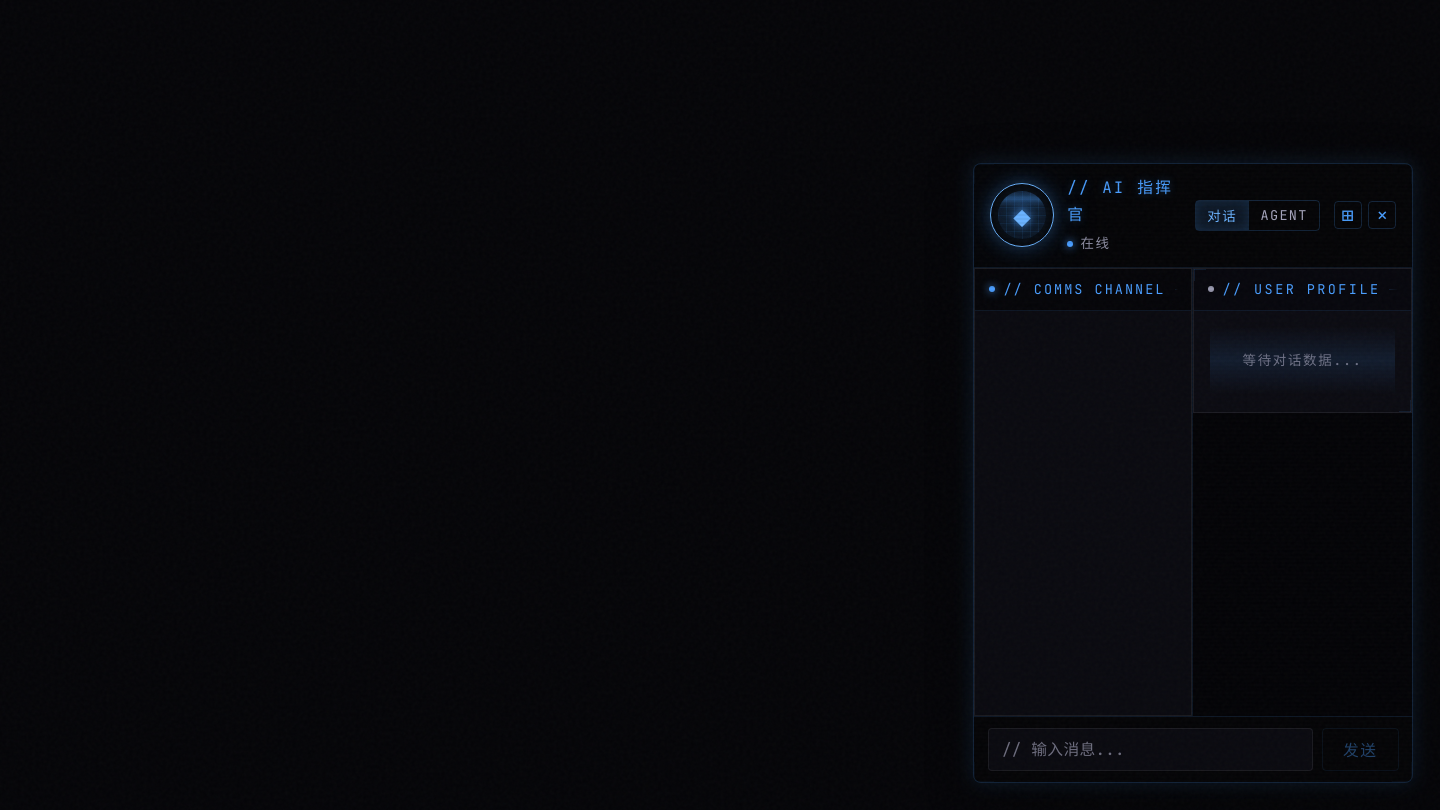
Scenario: RecruiterTerminal 组件 › Agent 模式（MCP 工具调用） › 切换到 AGENT：标题变化、画像面板与快捷建议隐藏
Click the tab with class "mode-switch__btn" showing "AGENT" at (1284, 215), box [1248, 201, 1319, 230]
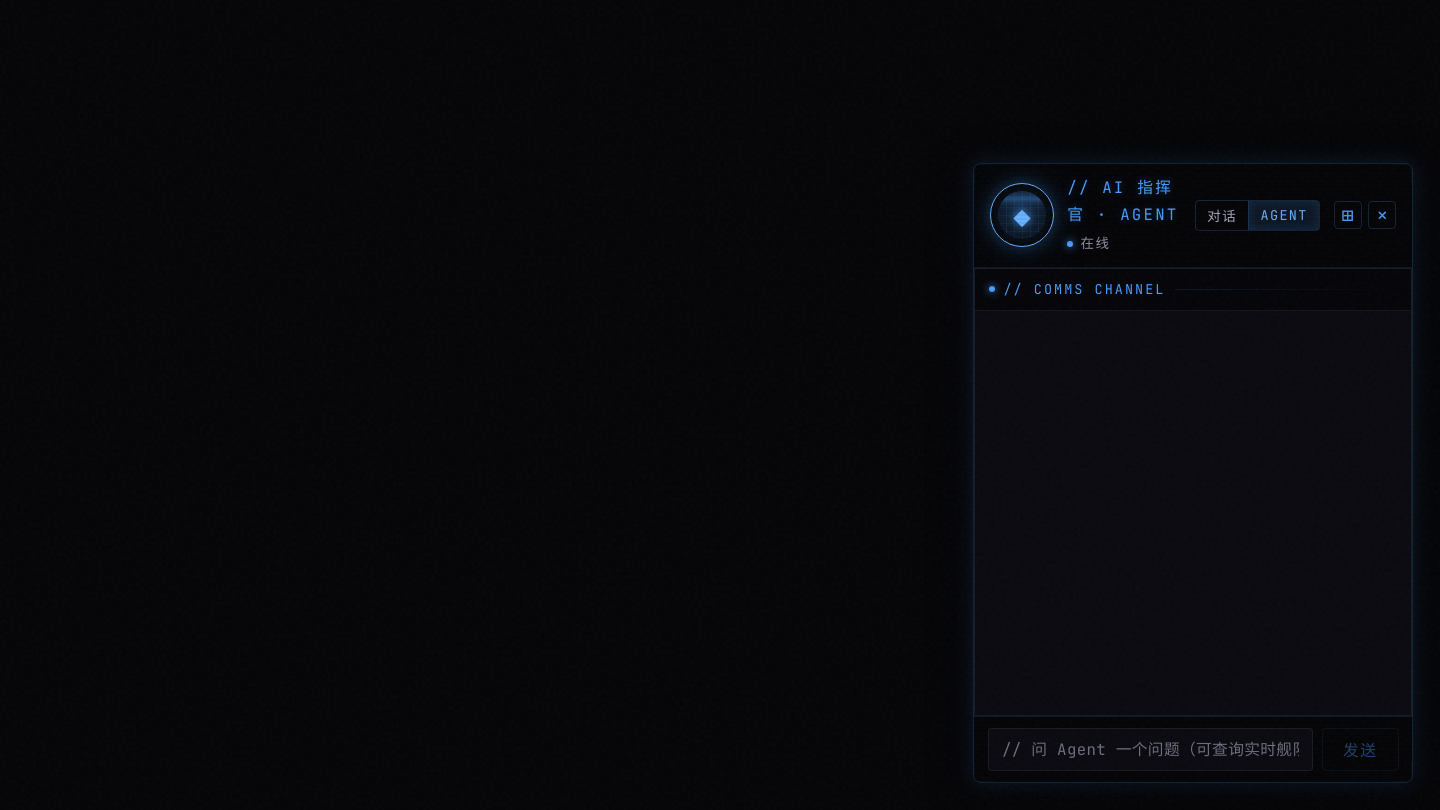
Result: the text "AI 指挥官 · AGENT" is shown at [1067, 177, 1178, 225]
